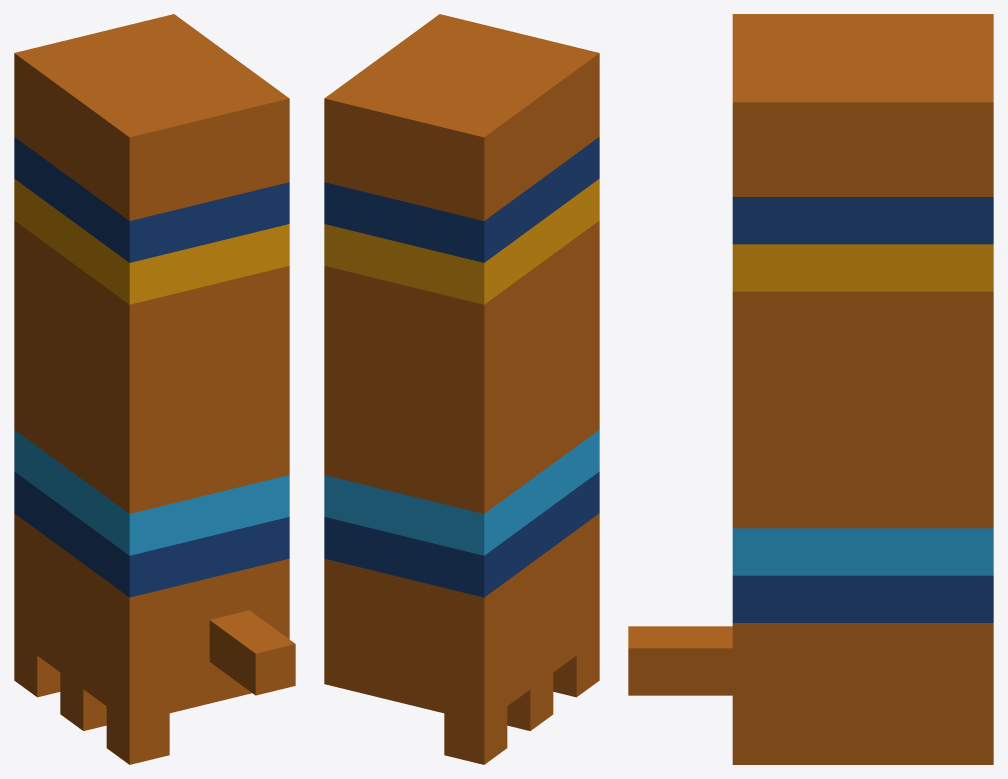
The model's file is Gor-2.obj.
The picture shows the model from 3 angles, left to right: view 1: azimuth 30°, elevation 25°; view 2: azimuth 150°, elevation 25°; view 3: azimuth 270°, elevation 25°; orthographic projection. The views are drawn at different scales.
Bounding box in the file's own units: 0.4 × 1.5 × 0.7.
1 material, 1 textured.
